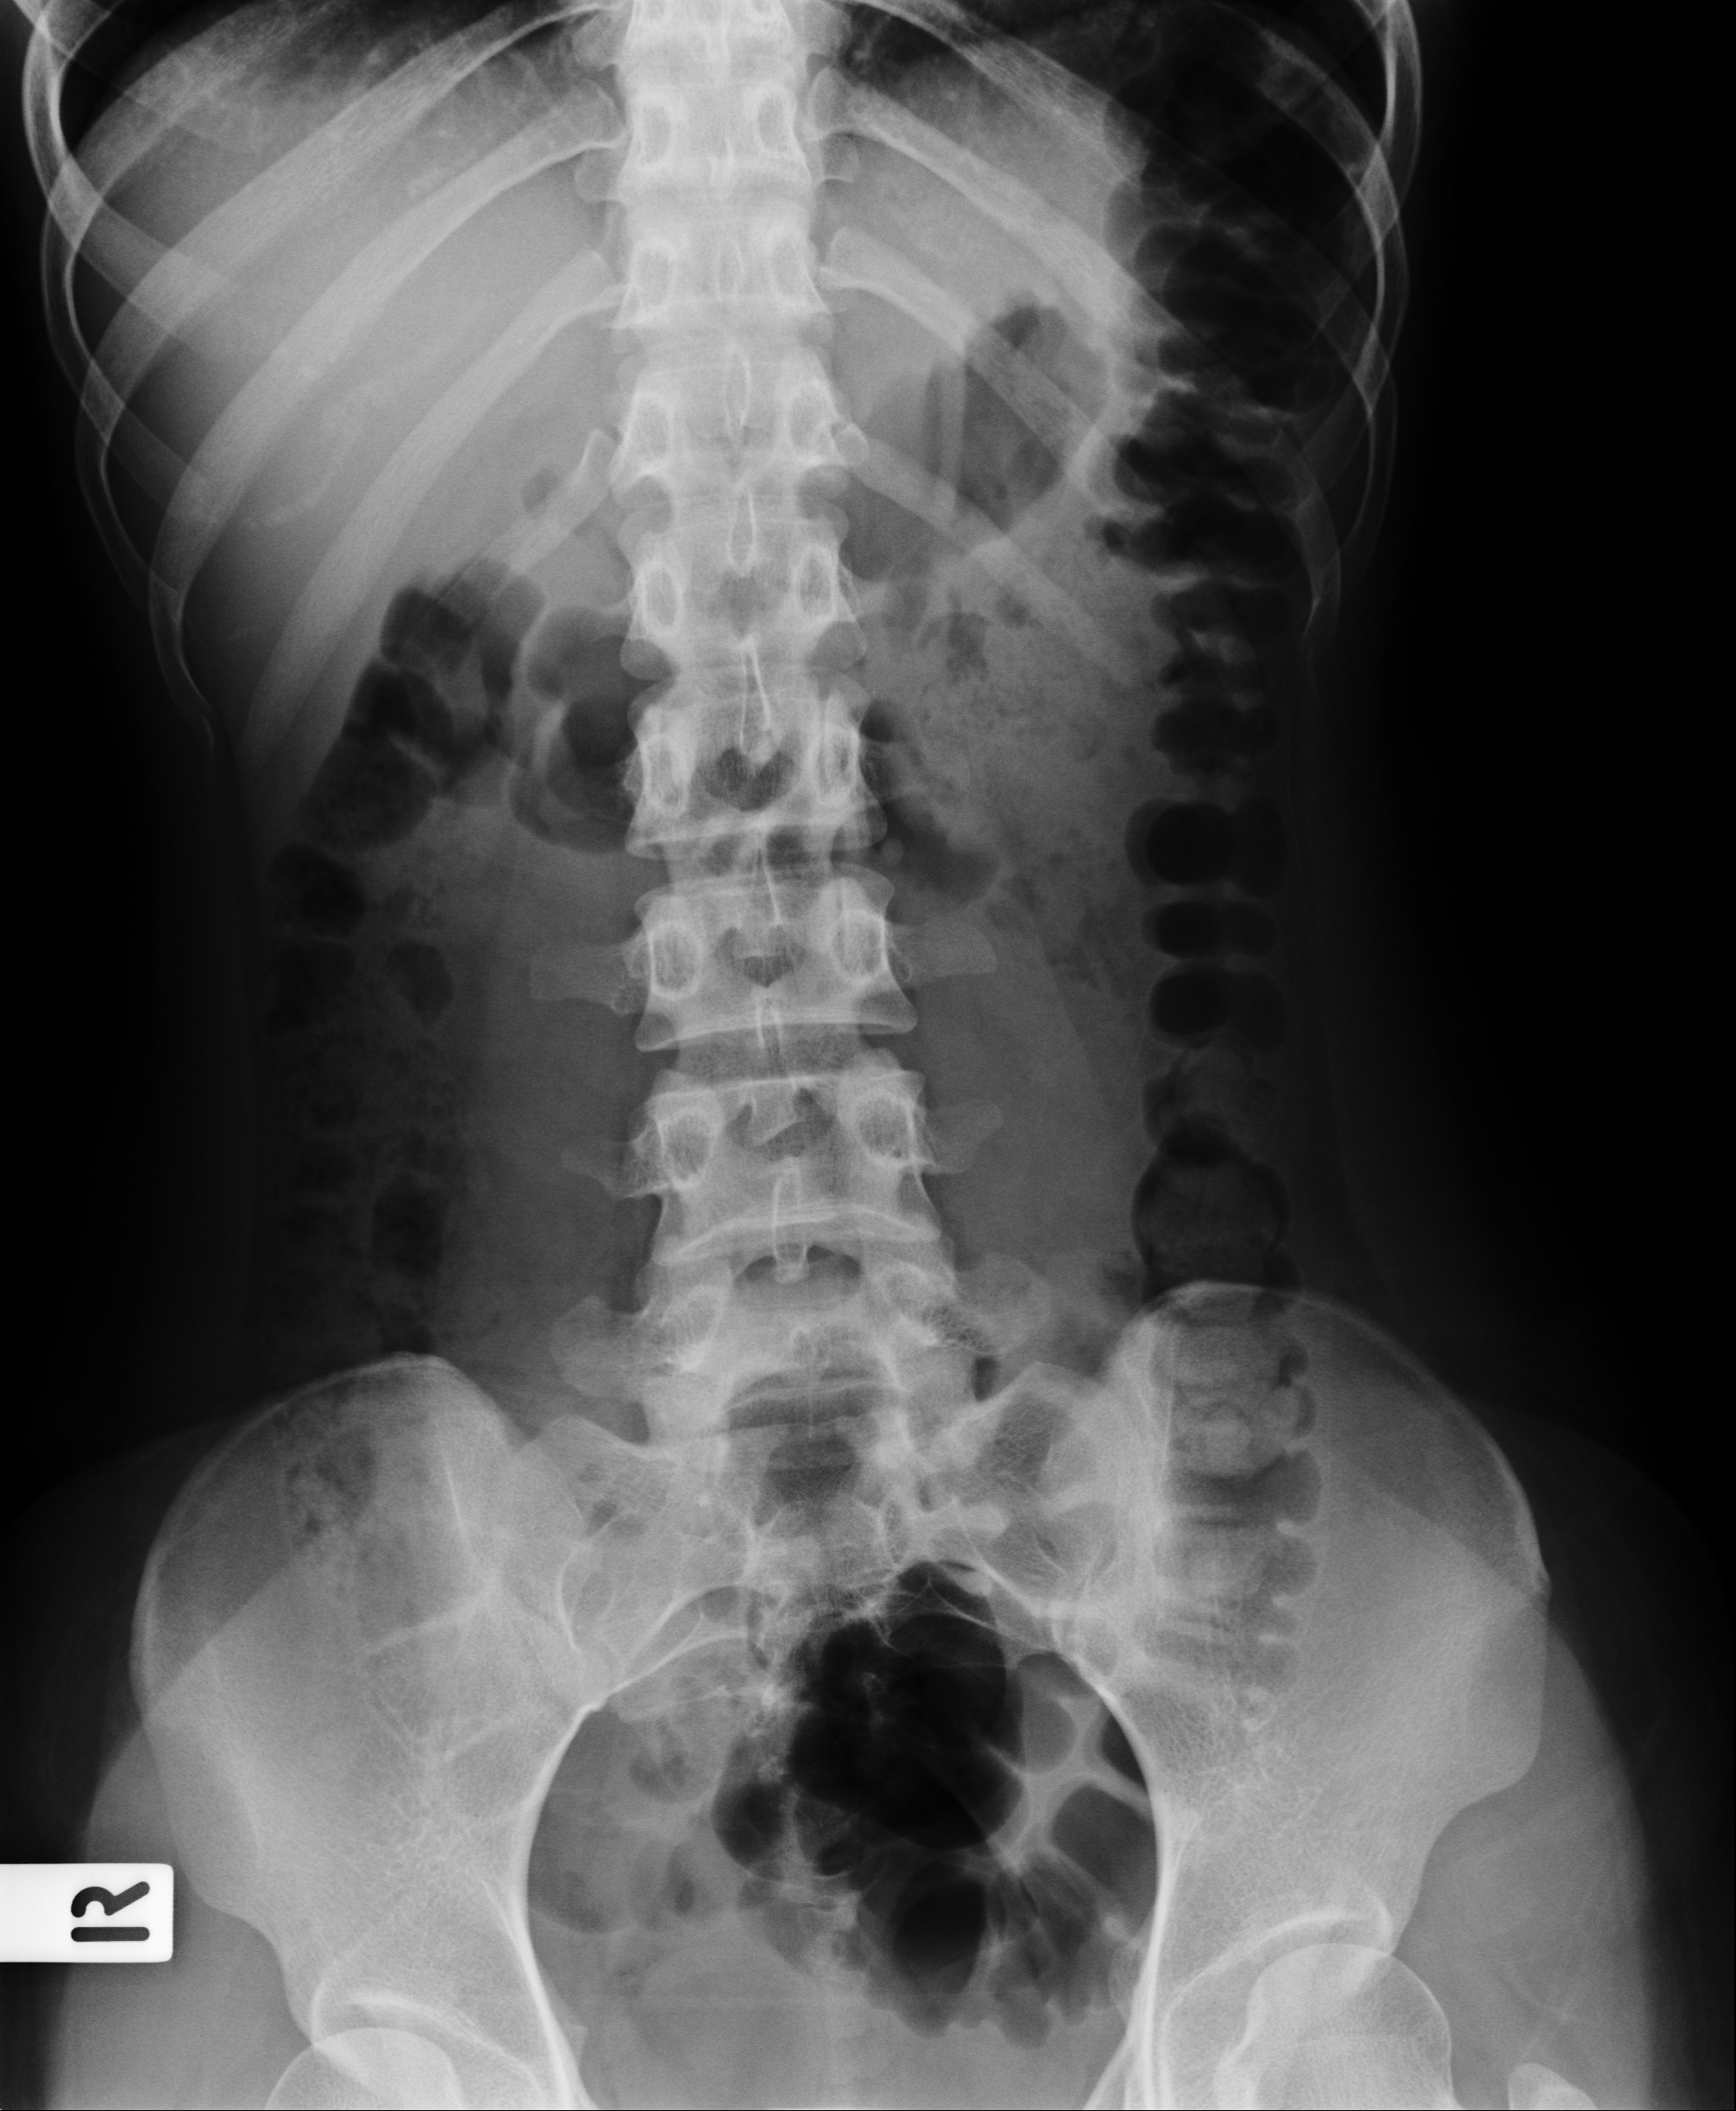lumbar scoliosis: (582, 12, 977, 1439)
